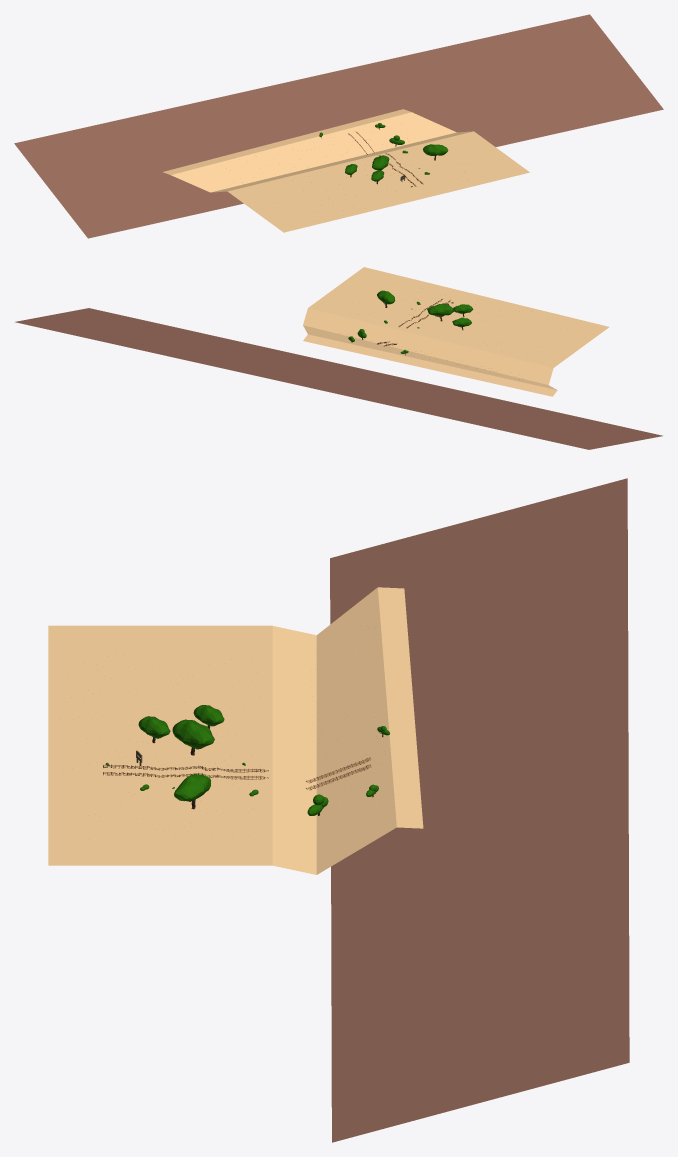
3 renders of one model, top to bottom at view 1: azimuth 30°, elevation 25°; view 2: azimuth 150°, elevation 25°; view 3: azimuth 270°, elevation 25°, orthographic. The views are drawn at different scales.
Visible parts, largest first — view 1: Plane.001, Plane; view 2: Plane, Plane.001; view 3: Plane.001, Plane, Barrière.
Part boxes in pixels (left/top/right/bottom): Plane.001: left=14, top=14, right=663, bottom=238; Plane: left=163, top=109, right=529, bottom=232; Plane: left=303, top=267, right=609, bottom=396; Plane.001: left=15, top=308, right=662, bottom=449; Plane.001: left=330, top=478, right=629, bottom=1142; Plane: left=48, top=587, right=423, bottom=874; Barrière: left=103, top=757, right=370, bottom=790.
Size of the model in its own units: 366 by 33.8 by 160.
